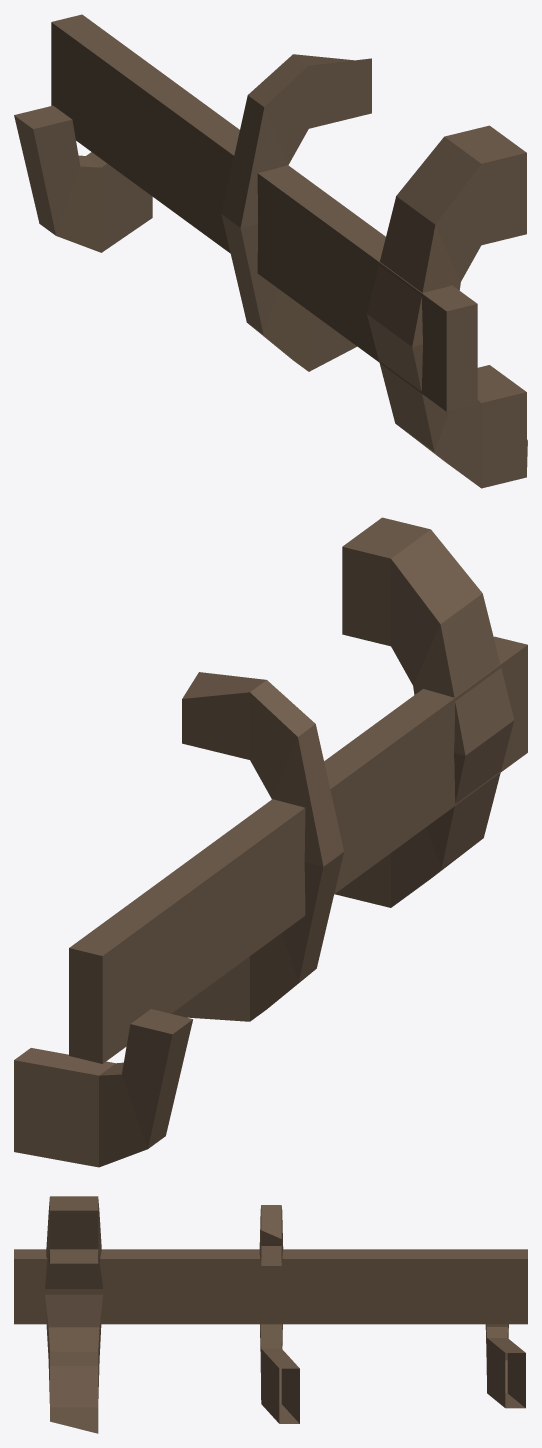
File: EA03_Prop_House_Bolt_01a.glb
3 renders of one model, top to bottom at view 1: azimuth 30°, elevation 25°; view 2: azimuth 150°, elevation 25°; view 3: azimuth 270°, elevation 25°, orthographic. The views are drawn at different scales.
Parts seen in each view (by area): view 1: EA03_Prop_House_Bolt_01a; view 2: EA03_Prop_House_Bolt_01a; view 3: EA03_Prop_House_Bolt_01a.
Part boxes in pixels (x1,y1,x2,y2): EA03_Prop_House_Bolt_01a: (14, 14, 527, 488); EA03_Prop_House_Bolt_01a: (14, 517, 527, 1167); EA03_Prop_House_Bolt_01a: (14, 1196, 527, 1433).
Size of the model in its own units: 0.2103 by 0.3307 by 0.7299.
Materials: 1 (1 with a texture image).
